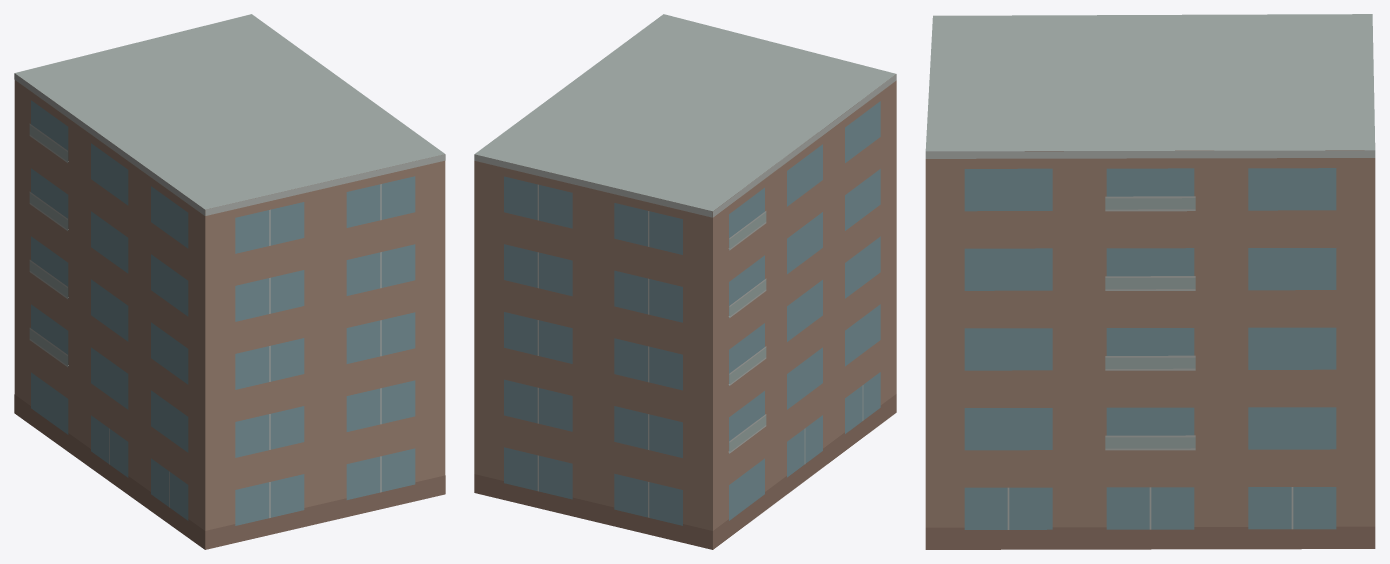
Rendered from survey-upis-32620639.glb.
3 renders of one model, left to right at view 1: azimuth 30°, elevation 25°; view 2: azimuth 150°, elevation 25°; view 3: azimuth 270°, elevation 25°, orthographic. The views are drawn at different scales.
Visible parts, largest first — view 1: survey-upis-32620639.tmp; view 2: survey-upis-32620639.tmp; view 3: survey-upis-32620639.tmp.
Boxes of the visible parts, left/top/right/bottom form: survey-upis-32620639.tmp: left=14, top=14, right=445, bottom=549; survey-upis-32620639.tmp: left=474, top=14, right=896, bottom=549; survey-upis-32620639.tmp: left=925, top=14, right=1375, bottom=549.
Bounding box in the file's own units: 9.5 × 12.8 × 13.1.
